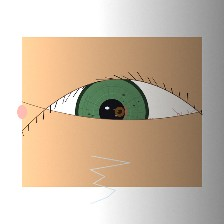foreign_body_visible: (107, 101, 133, 122)
